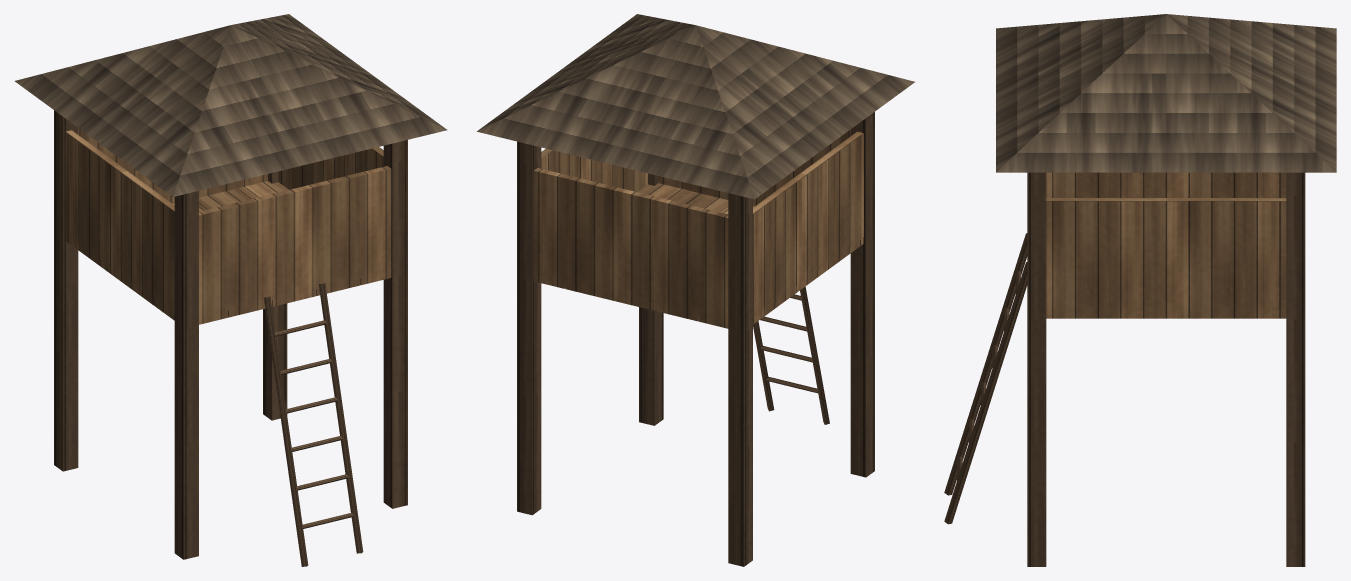
The model's file is Watchpost_Wood_1.gltf.
The picture shows the model from 3 angles, left to right: view 1: azimuth 30°, elevation 25°; view 2: azimuth 150°, elevation 25°; view 3: azimuth 270°, elevation 25°; orthographic projection. The views are drawn at different scales.
Visible parts, largest first — view 1: Watchpost_Wood_1; view 2: Watchpost_Wood_1; view 3: Watchpost_Wood_1.
Part boxes in pixels (bbox=[...]): Watchpost_Wood_1: bbox=[14, 14, 447, 566]; Watchpost_Wood_1: bbox=[477, 14, 914, 566]; Watchpost_Wood_1: bbox=[944, 14, 1336, 566].
Size of the model in its own units: 2.5 by 4.01 by 2.88.
3 materials, 3 textured.
